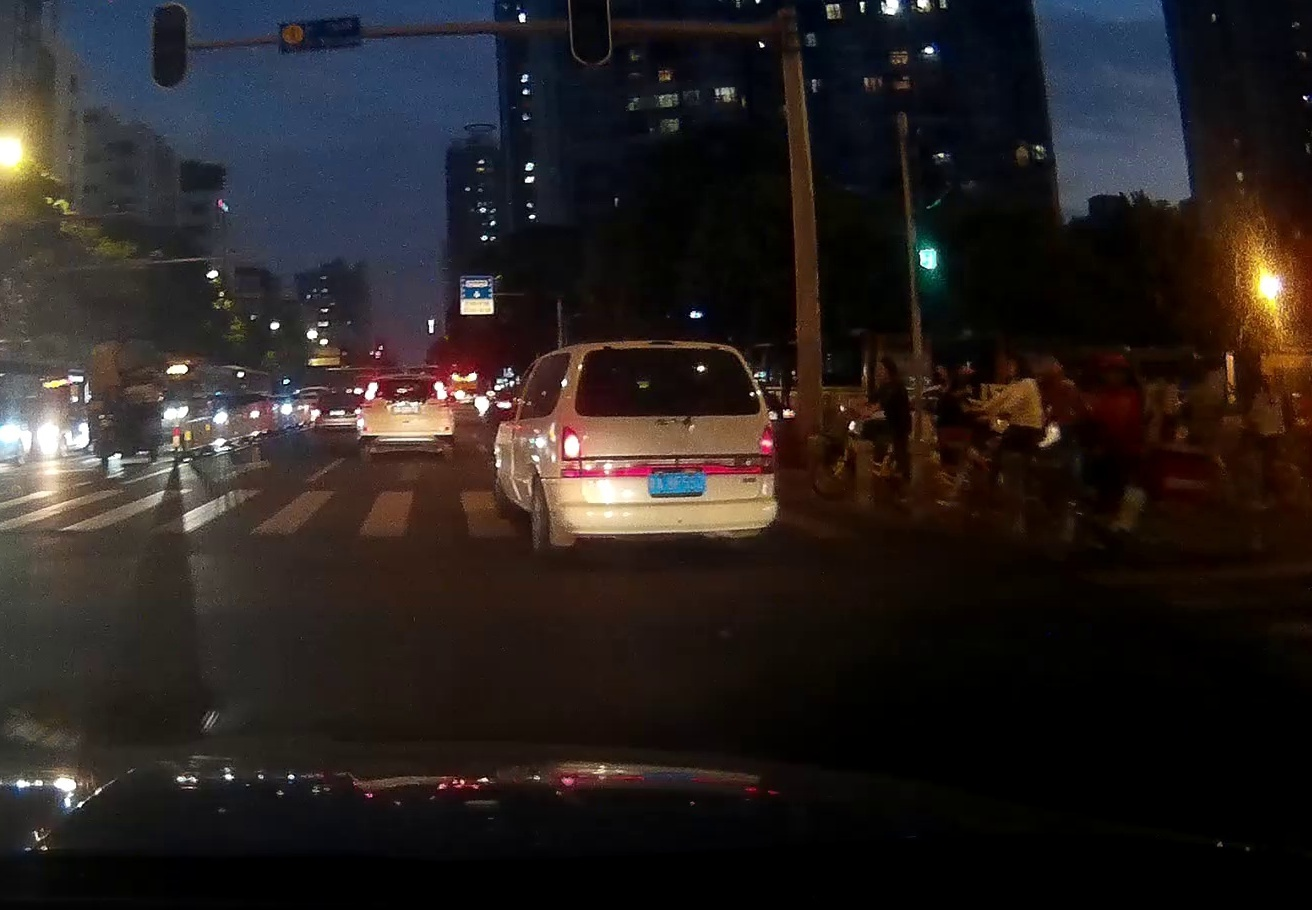L_light: (561, 425, 582, 478), (364, 380, 379, 401)
R_light: (759, 425, 775, 472), (432, 379, 449, 400)
T_light: (647, 345, 680, 351), (398, 376, 415, 380)
night-left: (555, 339, 779, 553)
night-no: (356, 374, 454, 462)
